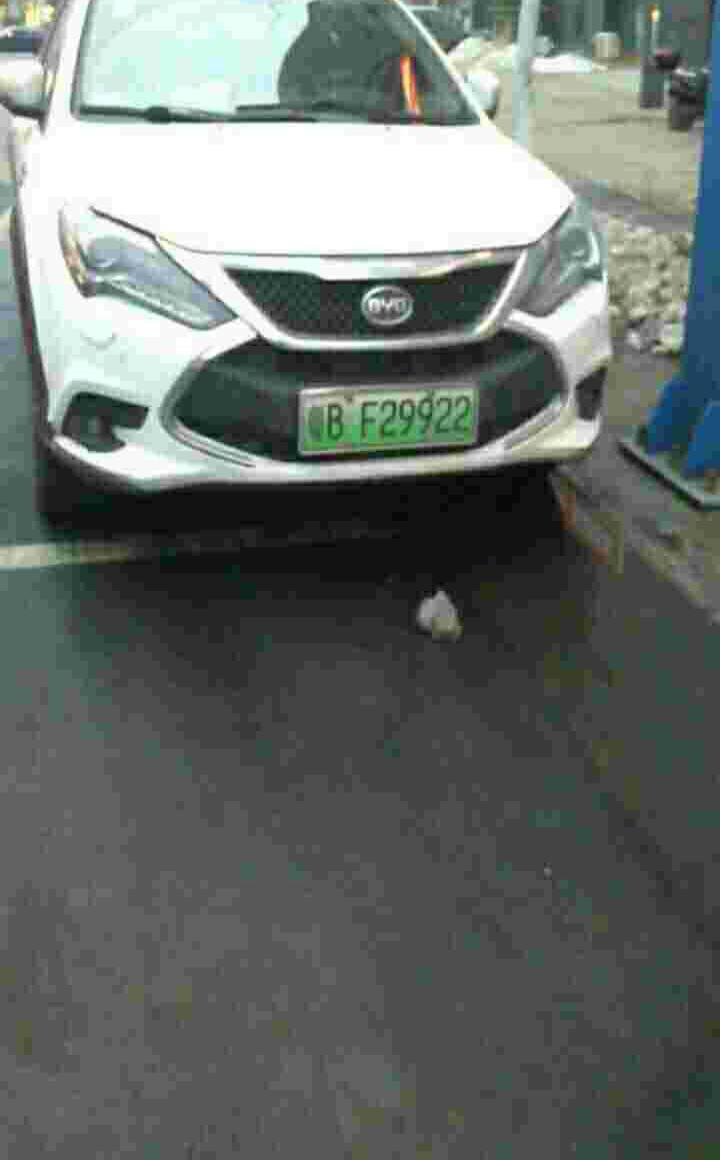car: (289, 391, 488, 450)
